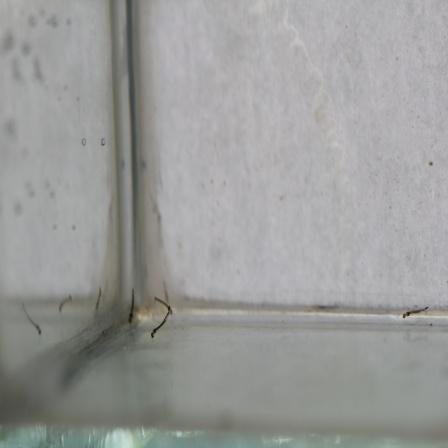Jentik-Nyamuk: (148, 295, 176, 342), (401, 301, 431, 322), (124, 287, 138, 327)
